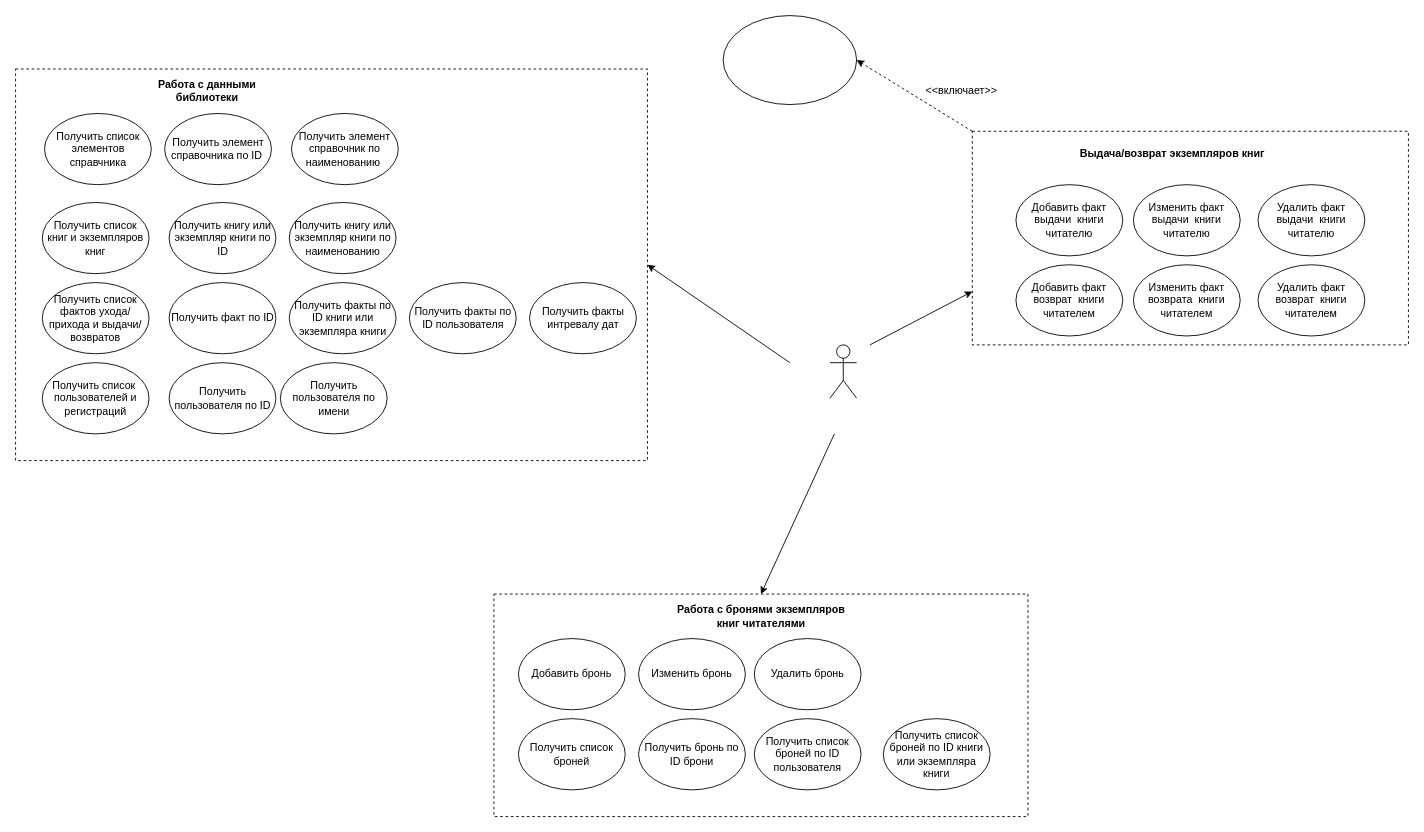
Image size: 1424x832. Some labels were removed from this diagram. Each missing label, with the centre of its shape:
Ввести информацию о состоянии экземпляра книги: pixel 789 60
Стажёр библиотекаря: pixel 843 371
